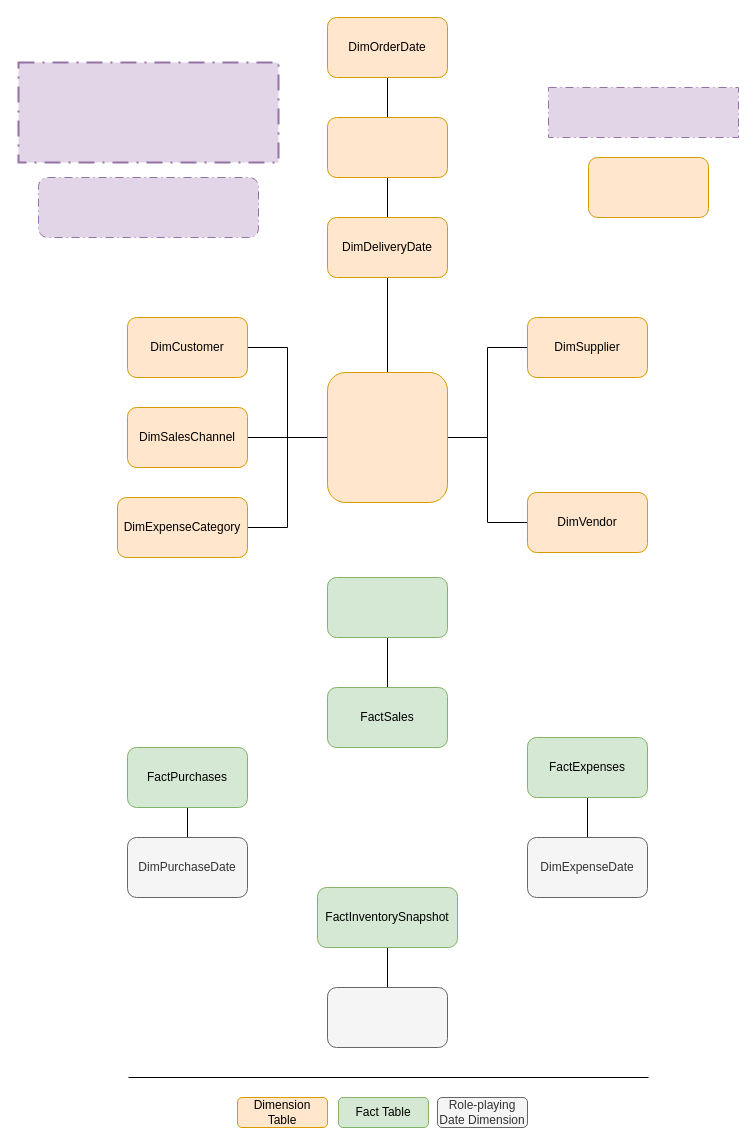
Image size: 756x1145. Some labels were removed from this diagram. Each missing label, with the centre of its shape:
Canonical Calendar (DimDate): (643,112)
DimDate: (648,187)
Dimensional Model for the Potchi Potchi Business Intelligence Platform: (148,207)
DimProduct: (387,437)
DimShipDate: (387,147)
DimSnapshotDate: (387,1017)
FactOrders: (387,607)
Potchi Potchi Power BI Semantic Model (Star Schema): (148,112)
